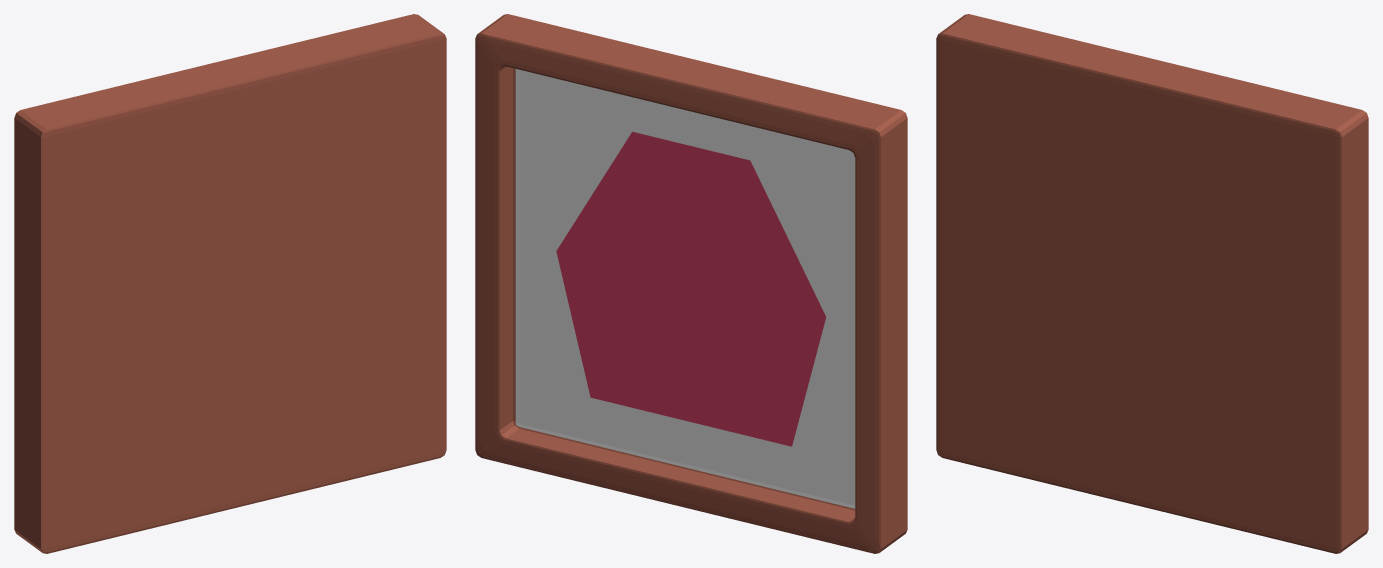
Rendered from tablo3.fbx.
3 renders of one model, left to right at view 1: azimuth 30°, elevation 25°; view 2: azimuth 150°, elevation 25°; view 3: azimuth 330°, elevation 25°, orthographic.
Visible parts, largest first — view 1: Cube.022; view 2: Cube.022; view 3: Cube.022.
Boxes of the visible parts, bbox=[...] form: Cube.022: bbox=[14, 14, 446, 553]; Cube.022: bbox=[475, 14, 907, 553]; Cube.022: bbox=[936, 14, 1368, 553].
Bounding box in the file's own units: 702 × 702 × 84.01.
